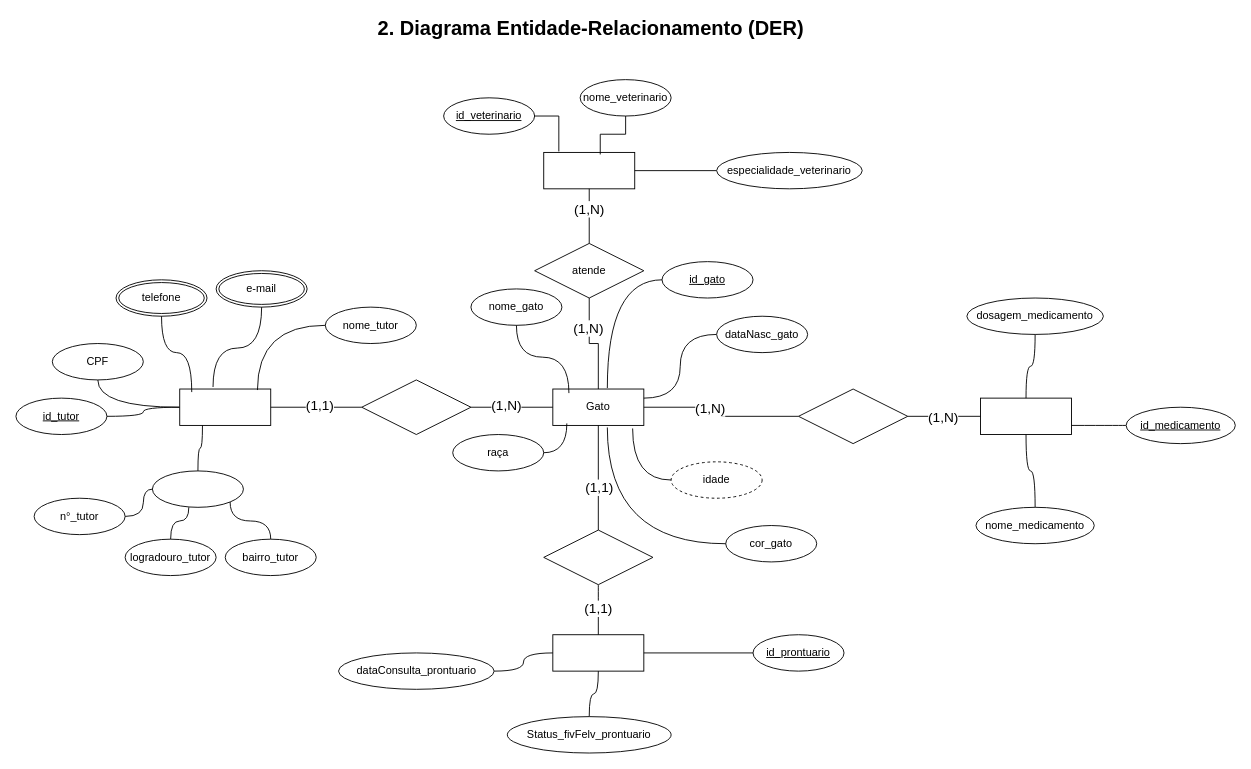
This 1251x769 diagram has some shape labels left out. The centre of each missing label's shape, as x and y in pixels:
ebdereco_tutor: [197,488]
Medicamento: [1026,416]
possui: [416,407]
Prontuario: [598,652]
tem: [598,557]
toma: [853,416]
Tutor: [225,406]
Veterinario: [589,170]
